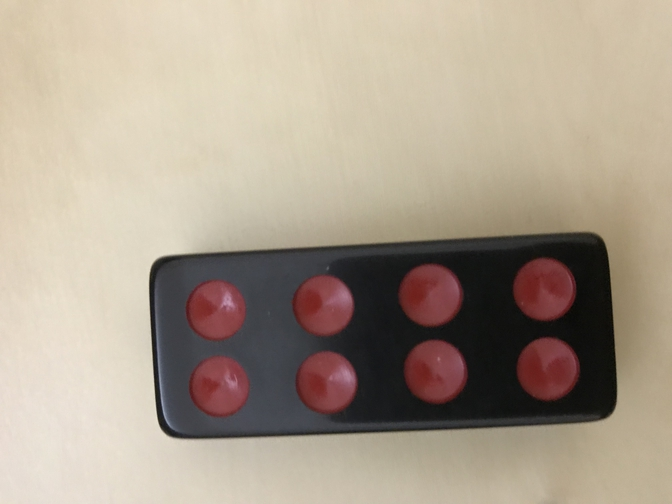man: (149, 232, 617, 437)
